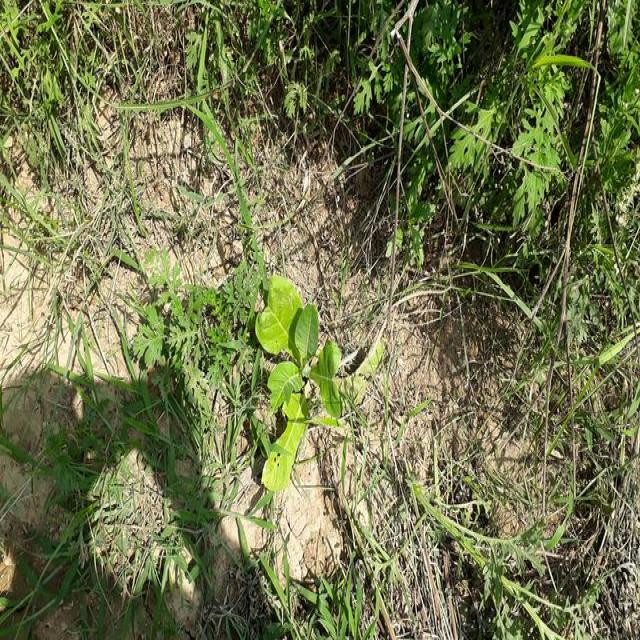crop: (264, 272, 348, 493)
